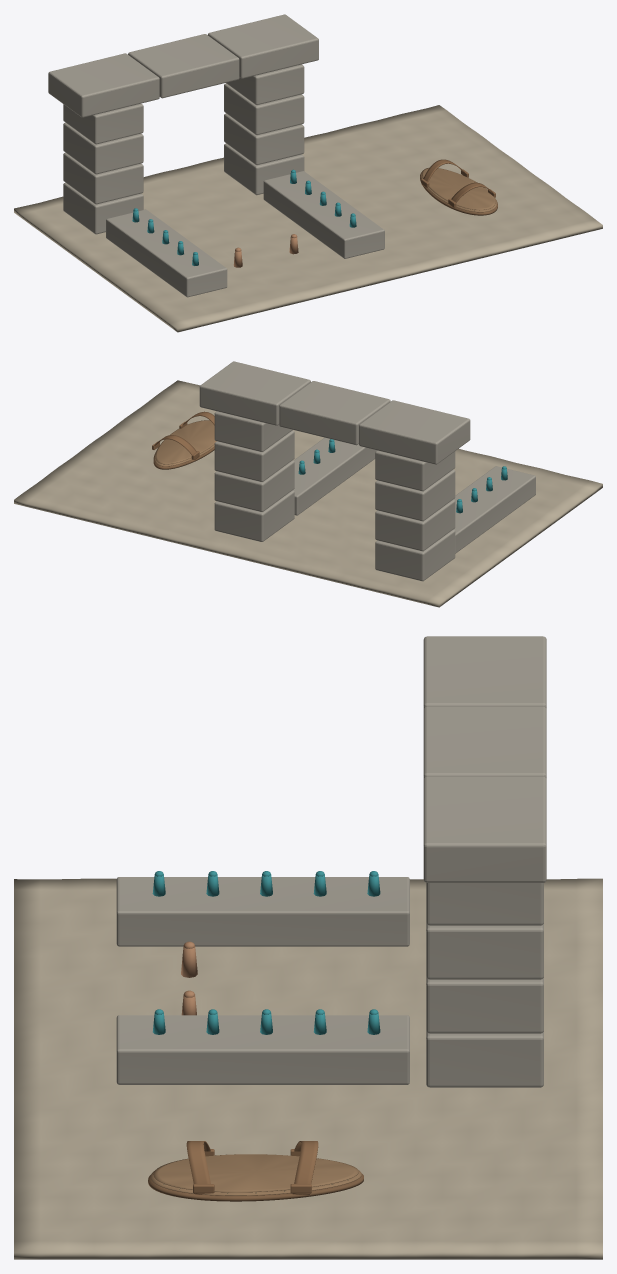
The model's file is ruth-witness.glb.
3 views of the same model, one above another, from view 1: azimuth 30°, elevation 25°; view 2: azimuth 150°, elevation 25°; view 3: azimuth 270°, elevation 25° (orthographic). The views are drawn at different scales.
Visible parts, largest first — view 1: ruth-witness-ruth-modern-gathering-map-ground, ruth-witness-ruth-original-gate-space-stone, ruth-witness-ruth-ordinary-shoe-inner-layer.001, ruth-witness-ruth-modern-position-markers, ruth-witness-ruth-original-shoe-fastening-straps; view 2: ruth-witness-ruth-original-gate-space-stone, ruth-witness-ruth-modern-gathering-map-ground, ruth-witness-ruth-ordinary-shoe-inner-layer.001, ruth-witness-ruth-modern-position-markers, ruth-witness-ruth-original-shoe-fastening-straps; view 3: ruth-witness-ruth-modern-gathering-map-ground, ruth-witness-ruth-original-gate-space-stone, ruth-witness-ruth-ordinary-shoe-inner-layer.001, ruth-witness-ruth-modern-position-markers, ruth-witness-ruth-original-shoe-fastening-straps, ruth-witness-ruth-ordinary-shoe-sole-comparison, ruth-witness-ruth-modern-discussion-markers.
Part boxes in pixels (<box>): ruth-witness-ruth-modern-gathering-map-ground: <box>14,105,602,332</box>; ruth-witness-ruth-original-gate-space-stone: <box>48,14,384,297</box>; ruth-witness-ruth-ordinary-shoe-inner-layer.001: <box>422,167,495,210</box>; ruth-witness-ruth-modern-position-markers: <box>132,169,356,265</box>; ruth-witness-ruth-original-shoe-fastening-straps: <box>421,159,495,207</box>; ruth-witness-ruth-original-gate-space-stone: <box>199,361,535,581</box>; ruth-witness-ruth-modern-gathering-map-ground: <box>14,380,602,607</box>; ruth-witness-ruth-ordinary-shoe-inner-layer.001: <box>155,420,216,464</box>; ruth-witness-ruth-modern-position-markers: <box>298,439,507,513</box>; ruth-witness-ruth-original-shoe-fastening-straps: <box>152,411,214,459</box>; ruth-witness-ruth-modern-gathering-map-ground: <box>14,878,602,1259</box>; ruth-witness-ruth-original-gate-space-stone: <box>116,636,546,1087</box>; ruth-witness-ruth-ordinary-shoe-inner-layer.001: <box>153,1154,358,1192</box>; ruth-witness-ruth-modern-position-markers: <box>152,871,380,1034</box>; ruth-witness-ruth-original-shoe-fastening-straps: <box>186,1141,318,1194</box>; ruth-witness-ruth-ordinary-shoe-sole-comparison: <box>148,1173,363,1201</box>; ruth-witness-ruth-modern-discussion-markers: <box>181,941,197,1015</box>.
Size of the model in its own units: 1.35 by 0.4495 by 0.9.
